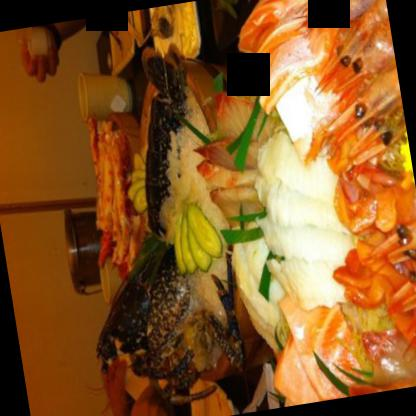shrimp: (306, 0, 398, 93), (318, 52, 405, 142), (361, 213, 415, 268), (301, 0, 389, 33), (383, 260, 415, 316), (398, 283, 415, 354)
